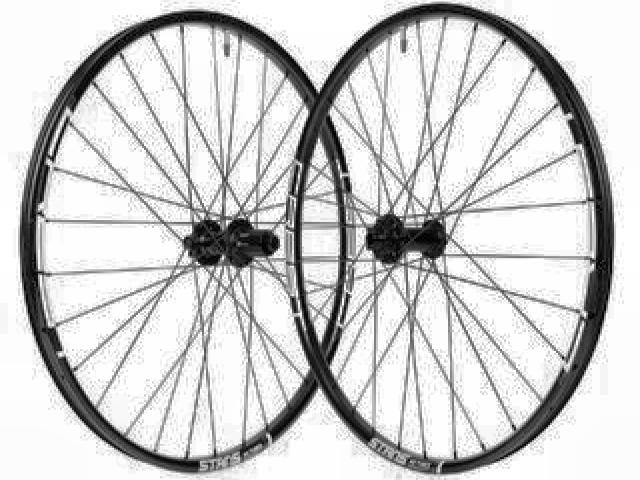wheel: (14, 9, 362, 476), (281, 3, 615, 472)
